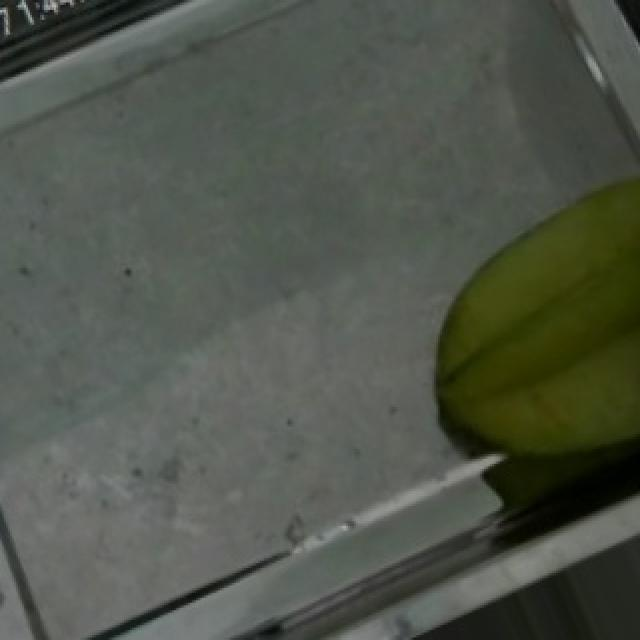fruit: (382, 139, 640, 503)
